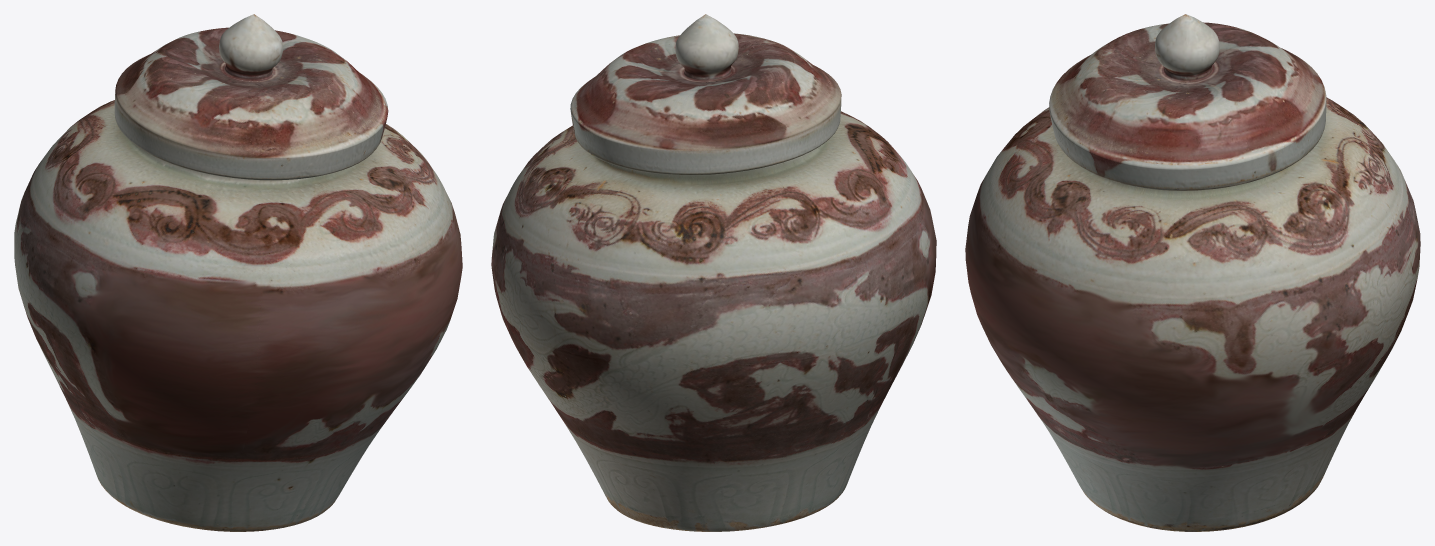
The model's file is dragon-jar.glb.
The picture shows the model from 3 angles, left to right: view 1: azimuth 30°, elevation 25°; view 2: azimuth 150°, elevation 25°; view 3: azimuth 270°, elevation 25°; orthographic projection. The views are drawn at different scales.
Visible parts, largest first — view 1: 139（瓷30）_元景德镇窑釉里红云龙纹盖罐_一级文物; view 2: 139（瓷30）_元景德镇窑釉里红云龙纹盖罐_一级文物; view 3: 139（瓷30）_元景德镇窑釉里红云龙纹盖罐_一级文物.
Part boxes in pixels (x1,y1,x2,y2): 139（瓷30）_元景德镇窑釉里红云龙纹盖罐_一级文物: (14, 14, 462, 531); 139（瓷30）_元景德镇窑釉里红云龙纹盖罐_一级文物: (491, 14, 936, 531); 139（瓷30）_元景德镇窑釉里红云龙纹盖罐_一级文物: (965, 14, 1420, 531).
Size of the model in its own units: 1.71 by 2 by 1.71.
1 material, 1 textured.
